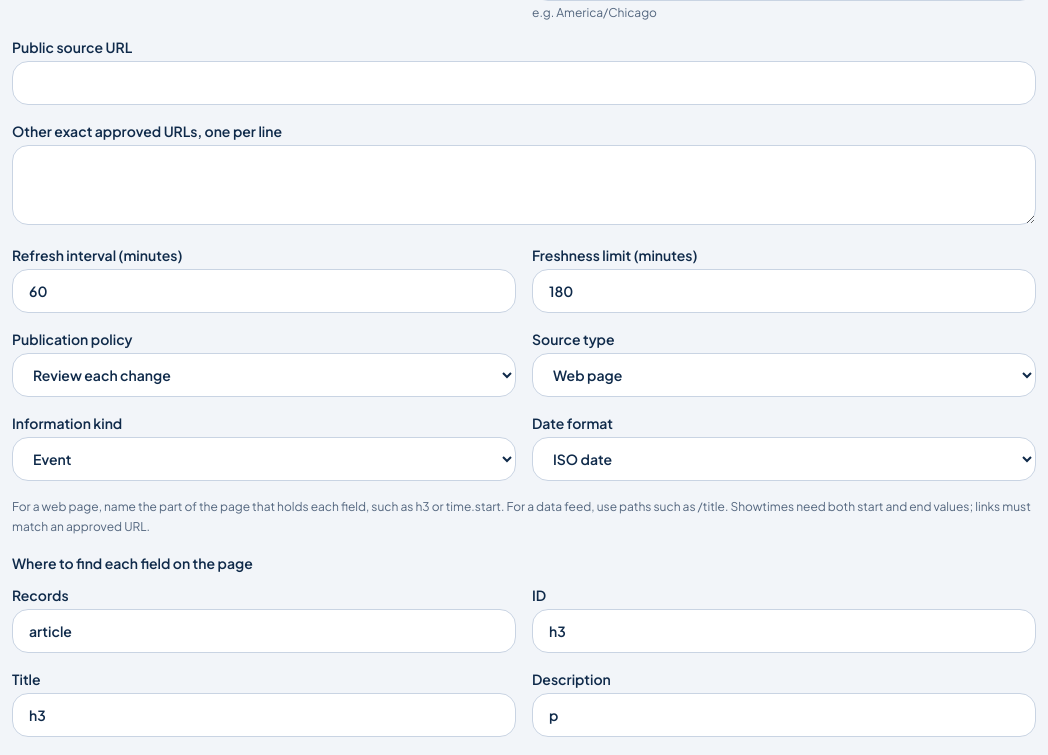
Test: SourceConnectionsSettings › resets selectors to JSON pointers when the source type changes
(page scrolled)
Select "Data feed (JSON)" in the dropdown labelled "Source type" at (784, 375), box [532,353,1036,397]
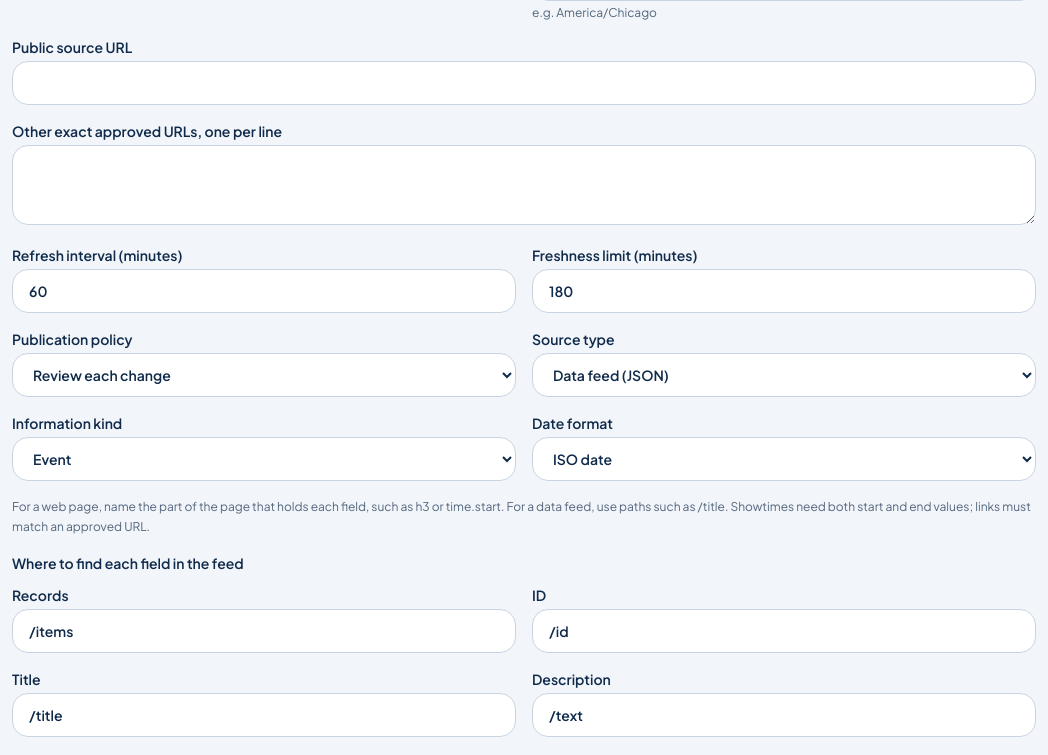
Now the field labelled "Records" holds "/items", box [12,609,516,653]
Now the field labelled "ID" holds "/id", box [532,609,1036,653]
